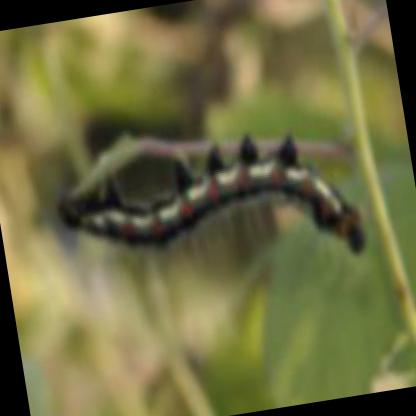pieris: (84, 145, 360, 247)
